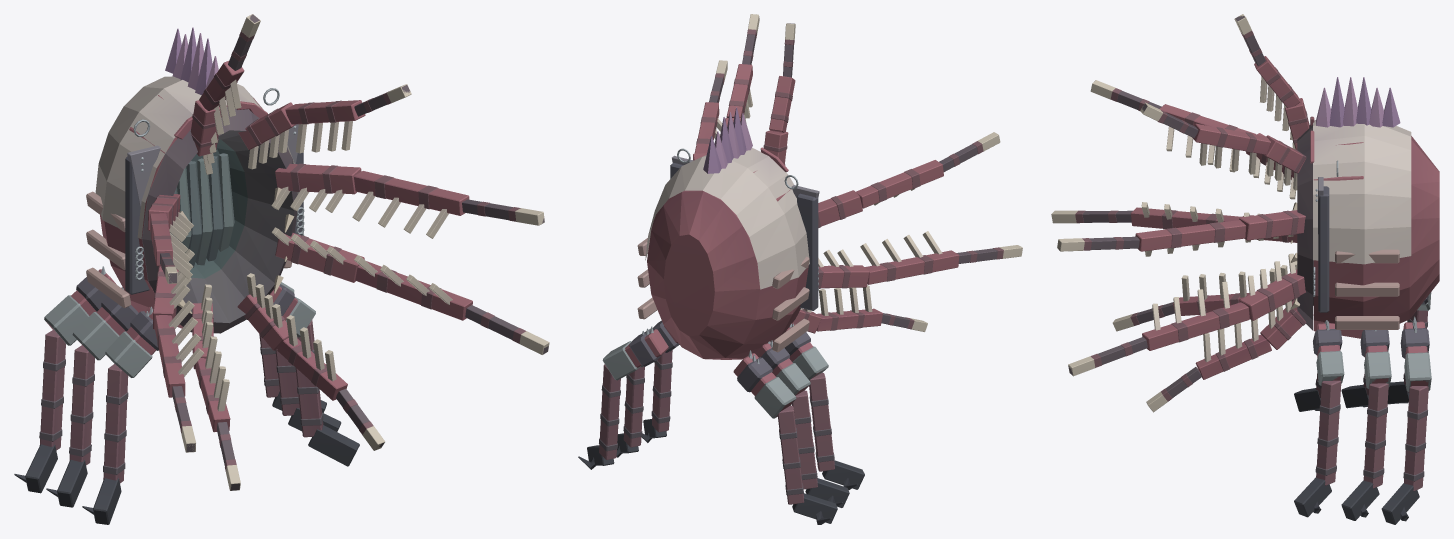
The model's file is AdaptedVisceraPunk.glb.
3 views of the same model, side by side, from view 1: azimuth 30°, elevation 25°; view 2: azimuth 150°, elevation 25°; view 3: azimuth 270°, elevation 25° (orthographic). The views are drawn at different scales.
Parts seen in each view (by area): view 1: Body, LegR, ArmR, ArmL, LegL; view 2: Body, LegR, LegL, ArmR, ArmL; view 3: Body, LegL, ArmL, LegR, ArmR.
Boxes of the visible parts, x1=… form: Body: x1=46, y1=14, x2=549, y2=507; LegR: x1=14, y1=266, x2=116, y2=493; ArmR: x1=82, y1=306, x2=158, y2=524; ArmL: x1=269, y1=284, x2=359, y2=466; LegL: x1=259, y1=335, x2=326, y2=412; Body: x1=616, y1=14, x2=1022, y2=507; LegR: x1=733, y1=350, x2=837, y2=524; LegL: x1=578, y1=326, x2=668, y2=469; ArmR: x1=785, y1=323, x2=864, y2=490; ArmL: x1=641, y1=344, x2=679, y2=442; Body: x1=1051, y1=14, x2=1439, y2=520; LegL: x1=1381, y1=316, x2=1431, y2=524; ArmL: x1=1294, y1=320, x2=1344, y2=517; LegR: x1=1387, y1=292, x2=1431, y2=404; ArmR: x1=1294, y1=373, x2=1321, y2=411.
Size of the model in its own units: 8.02 by 10.39 by 8.25.
